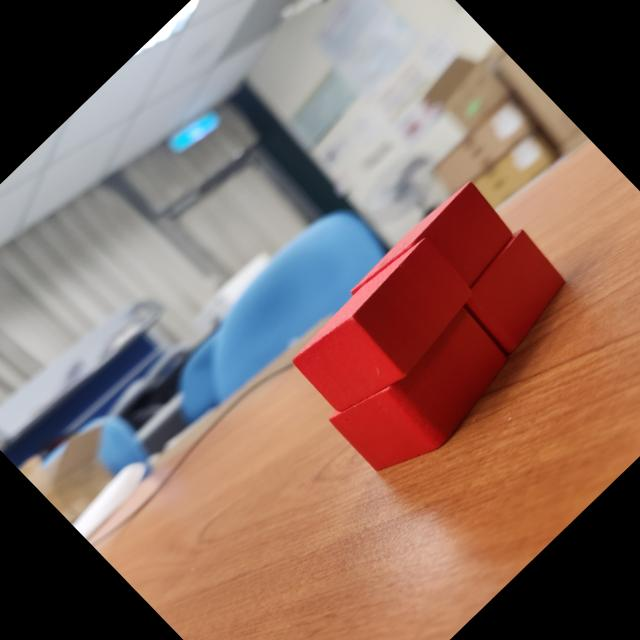red: (326, 293, 528, 493), (286, 230, 488, 428), (350, 175, 525, 348), (448, 225, 580, 356)
